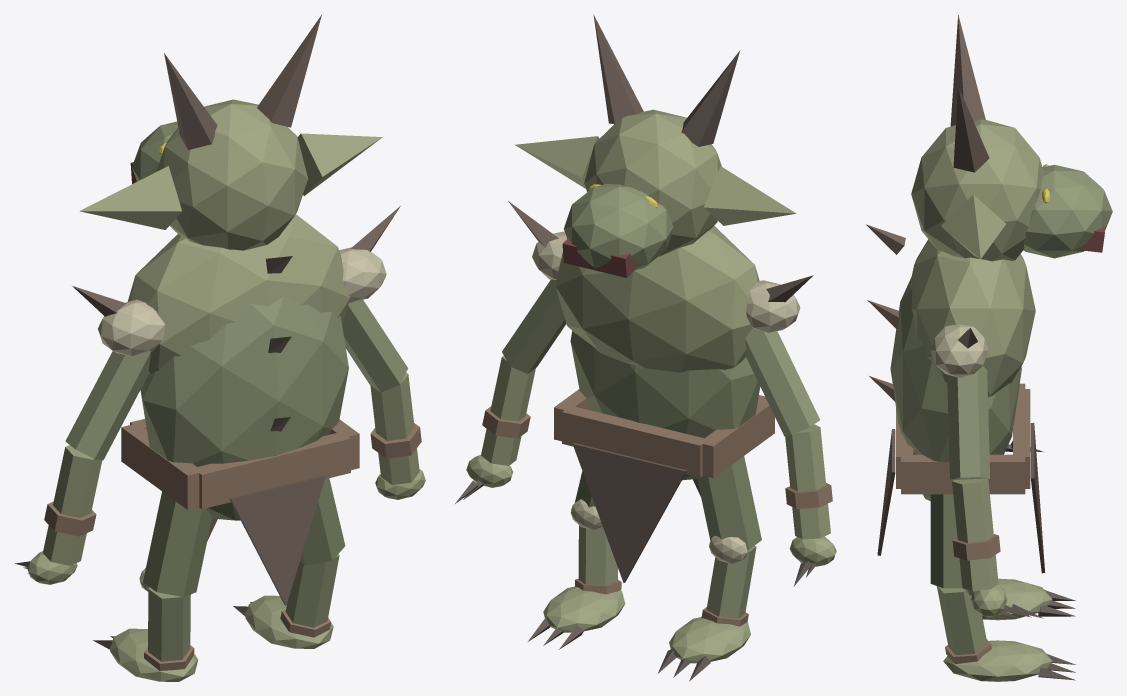
Rendered from biped_tier_2_bone_brute.glb.
3 renders of one model, left to right at view 1: azimuth 30°, elevation 25°; view 2: azimuth 150°, elevation 25°; view 3: azimuth 270°, elevation 25°, orthographic. The views are drawn at different scales.
Visible parts, largest first — view 1: torso, chest, head, back_loincloth, belt_back, thigh_L, upper_arm_L, forearm_L, upper_arm_R, ear_L, belt_L, forearm_R (+16 smaller); view 2: chest, torso, head, front_loincloth, snout, belt_front, upper_arm_L, thigh_L, forearm_L, upper_arm_R, forearm_R, ear_L (+19 smaller); view 3: chest, head, torso, snout, upper_arm_R, forearm_R, belt_R, foot_R, thigh_R, shin_R, ear_R, shoulder_bone_plate_R (+11 smaller).
Part boxes in pixels (bbox=[...]): torso: bbox=[140, 296, 348, 466]; chest: bbox=[127, 214, 350, 374]; head: bbox=[156, 99, 307, 250]; back_loincloth: bbox=[229, 475, 325, 605]; belt_back: bbox=[195, 432, 350, 508]; thigh_L: bbox=[143, 491, 212, 596]; upper_arm_L: bbox=[65, 351, 150, 460]; forearm_L: bbox=[43, 445, 102, 565]; upper_arm_R: bbox=[342, 300, 408, 392]; ear_L: bbox=[79, 166, 181, 229]; belt_L: bbox=[121, 423, 203, 509]; forearm_R: bbox=[370, 372, 419, 484]; chest: bbox=[555, 225, 759, 372]; torso: bbox=[570, 331, 760, 438]; head: bbox=[584, 109, 721, 256]; front_loincloth: bbox=[572, 443, 687, 582]; snout: bbox=[564, 184, 673, 270]; belt_front: bbox=[562, 406, 706, 477]; upper_arm_L: bbox=[745, 328, 819, 436]; thigh_L: bbox=[697, 456, 761, 549]; forearm_L: bbox=[785, 424, 830, 539]; upper_arm_R: bbox=[502, 279, 566, 373]; forearm_R: bbox=[481, 355, 535, 465]; ear_L: bbox=[703, 166, 796, 225]; chest: bbox=[909, 239, 1035, 397]; head: bbox=[911, 119, 1043, 261]; torso: bbox=[890, 277, 1021, 461]; snout: bbox=[1023, 164, 1112, 258]; upper_arm_R: bbox=[947, 366, 989, 480]; forearm_R: bbox=[952, 478, 998, 591]; belt_R: bbox=[901, 454, 1025, 494]; foot_R: bbox=[943, 640, 1052, 681]; thigh_R: bbox=[930, 494, 962, 588]; shin_R: bbox=[937, 586, 987, 654]; ear_R: bbox=[941, 194, 1005, 258]; shoulder_bone_plate_R: bbox=[930, 324, 988, 377].
Size of the model in its own units: 1.23 by 1.89 by 0.7123.
